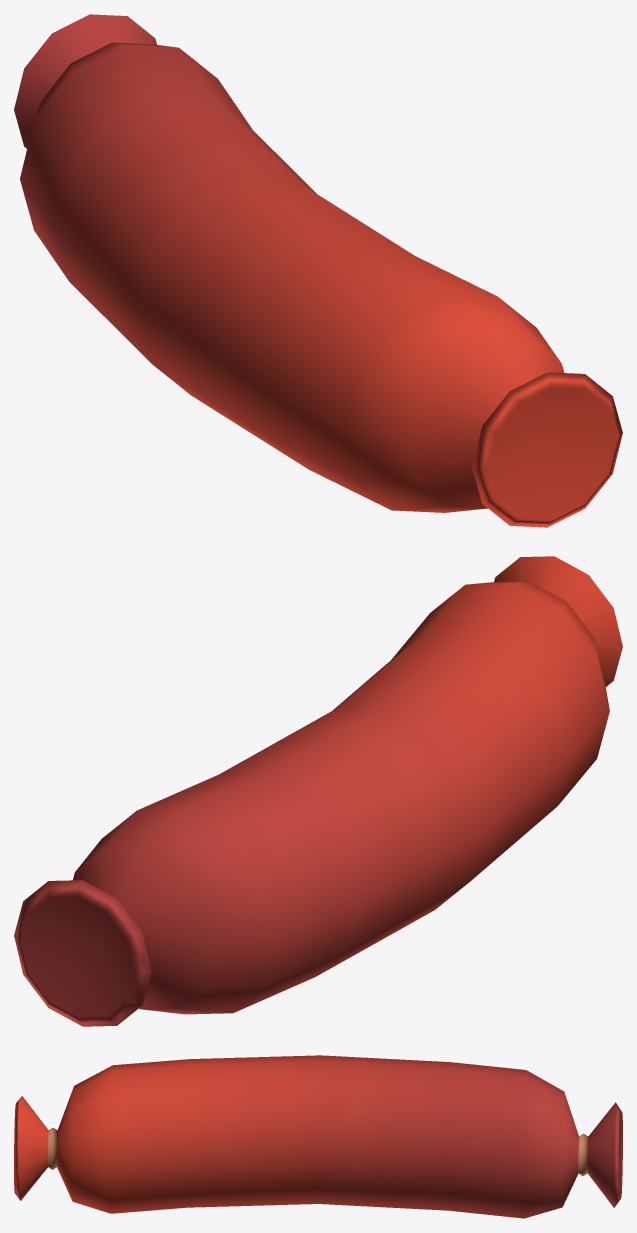
Rendered from Hot Dog Sausage.fbx.
3 renders of one model, top to bottom at view 1: azimuth 30°, elevation 25°; view 2: azimuth 150°, elevation 25°; view 3: azimuth 270°, elevation 25°, orthographic. The views are drawn at different scales.
Visible parts, largest first — view 1: Hot Dog Sausage; view 2: Hot Dog Sausage; view 3: Hot Dog Sausage.
Boxes of the visible parts, box(x1,y1,x2,y2) form: Hot Dog Sausage: box(14, 14, 622, 527); Hot Dog Sausage: box(14, 556, 622, 1026); Hot Dog Sausage: box(14, 1055, 622, 1218).
Bounding box in the file's own units: 10.69 × 8.46 × 34.56.
